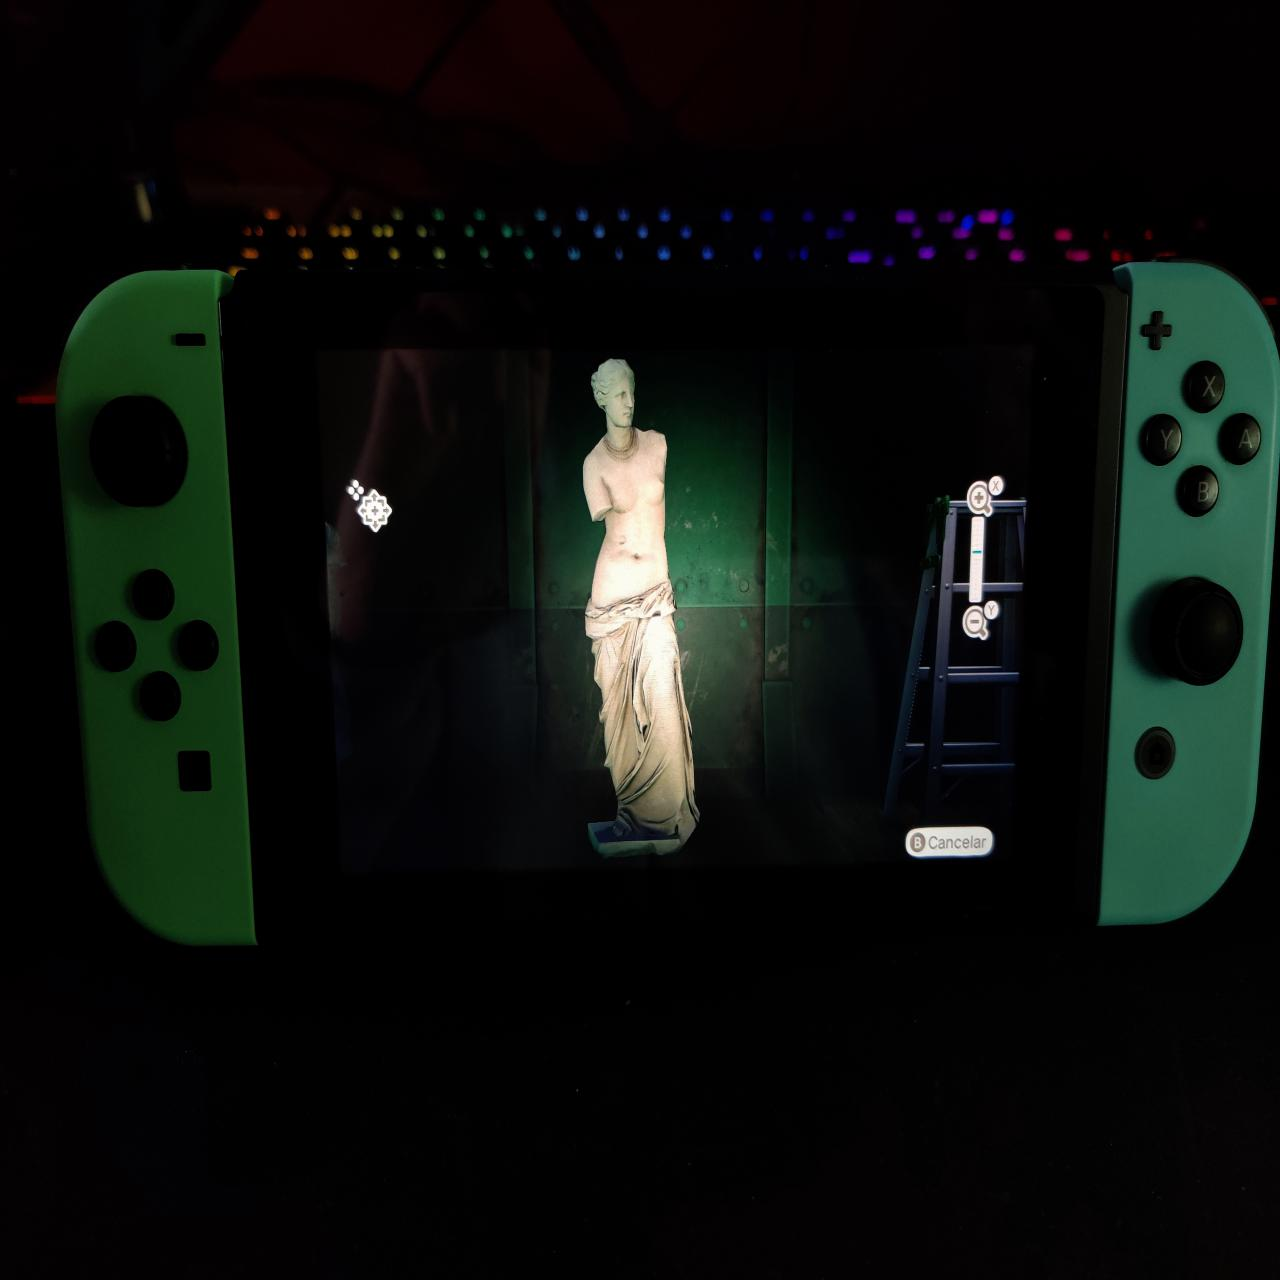MiloFake: (574, 361, 707, 860)
